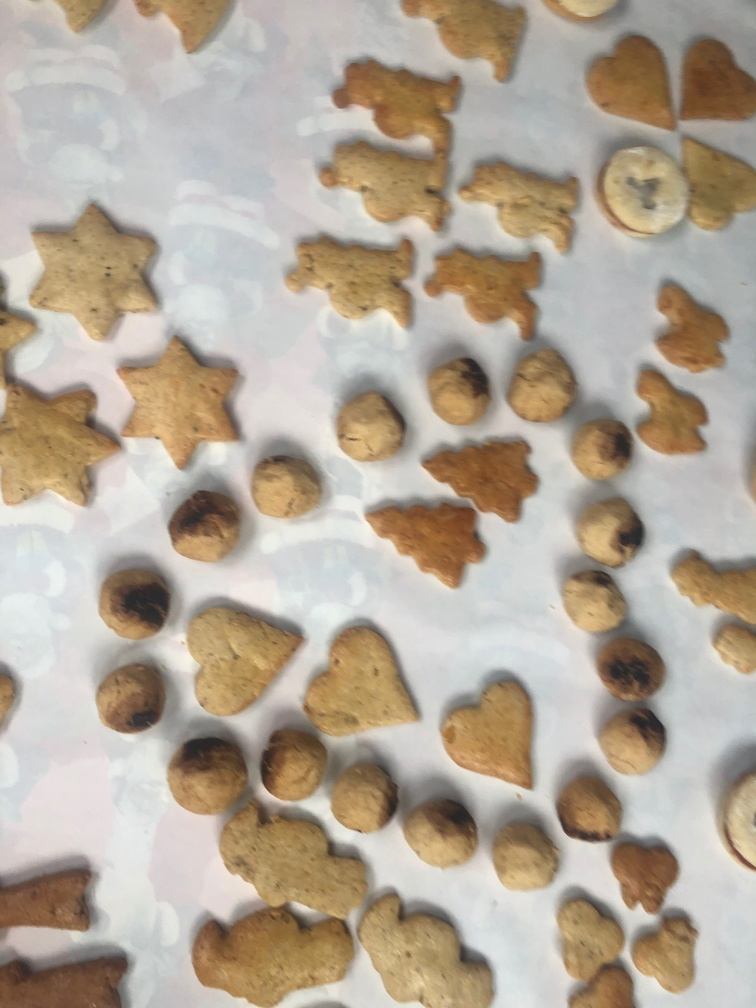christmas shortbread with jam: (598, 136, 692, 234), (716, 757, 755, 868), (544, 1, 632, 28)
christmas tree: (359, 489, 500, 587), (416, 428, 549, 526)
flake: (551, 879, 627, 976), (627, 907, 706, 994), (607, 827, 683, 911)
heart: (302, 616, 424, 739), (184, 595, 305, 713), (437, 668, 547, 789), (581, 26, 677, 132), (676, 132, 756, 238), (676, 28, 756, 127)
lamb: (648, 272, 736, 378), (632, 354, 714, 467)
santa claus: (216, 789, 374, 921), (355, 882, 509, 1008), (190, 895, 354, 1007), (282, 225, 423, 336), (454, 149, 591, 255), (328, 45, 467, 149), (312, 135, 459, 233), (421, 238, 550, 338), (399, 1, 534, 89)
shooting star: (2, 850, 109, 935), (3, 943, 134, 1008)
snowball: (329, 378, 410, 469), (592, 701, 677, 784), (244, 445, 330, 527), (164, 733, 248, 816), (90, 660, 173, 744), (165, 483, 249, 560), (96, 558, 175, 638), (572, 490, 654, 567), (505, 343, 588, 417), (401, 788, 479, 866), (329, 756, 402, 836), (554, 559, 632, 632), (425, 349, 493, 430), (491, 815, 565, 889), (593, 631, 670, 700), (569, 406, 636, 483), (553, 771, 625, 838), (262, 723, 328, 796)
snowman: (665, 545, 756, 618)
star: (24, 193, 164, 345), (115, 331, 248, 468), (8, 375, 127, 523), (3, 271, 47, 380)
